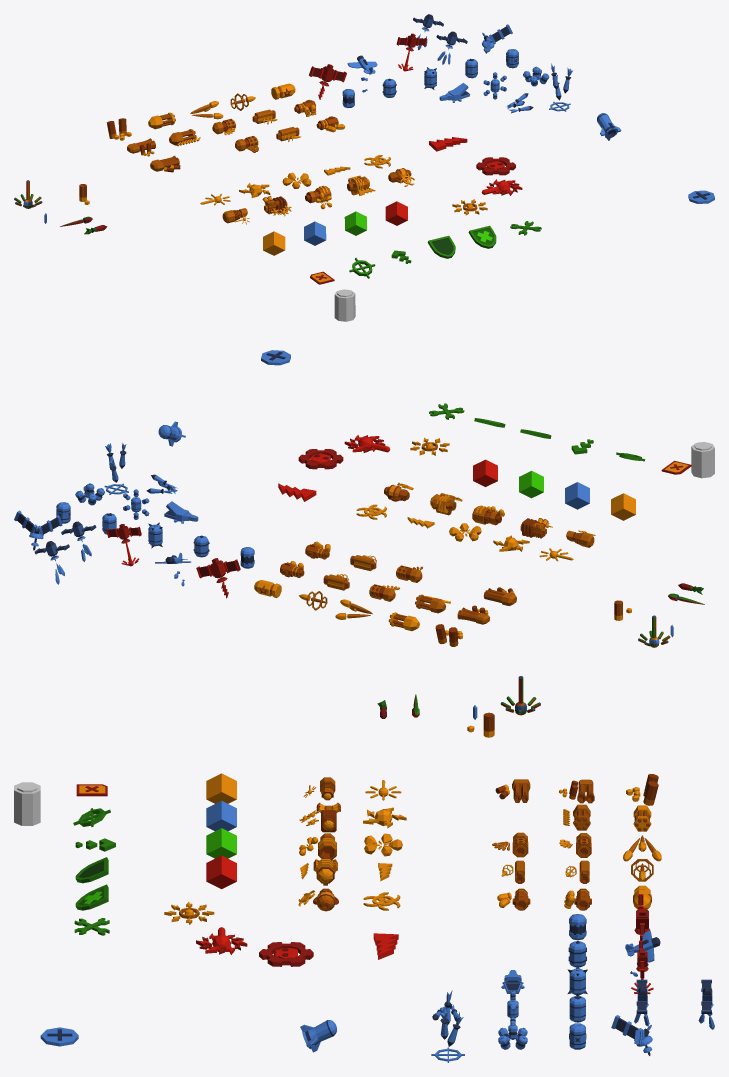
Rendered from powerup_icons.fbx.
The picture shows the model from 3 angles, top to bottom: view 1: azimuth 30°, elevation 25°; view 2: azimuth 150°, elevation 25°; view 3: azimuth 270°, elevation 25°; orthographic projection. The views are drawn at different scales.
Visible parts, largest first — view 1: platform, rb_hyperbeam_old, satellite_orbital_beam1; view 2: platform, rb_hyperbeam_old, satellite_orbital_beam1, satellite_old, rb_hyperbeam1, unknown3, unknown4, unknown2, unknown1, satellite_orbital_beam, targetMissile, ye_fragmenting (+2 smaller); view 3: platform, rb_hyperbeam_old, unknown4, targetMissile, unknown2, unknown3, unknown1, rb_hyperbeam1, SteeringMissile3, ye_plasma01, satellite_old, ye_fragmenting (+1 smaller).
Part boxes in pixels (box(x1,y1,x2,y2)): platform: box(334, 289, 355, 321); rb_hyperbeam_old: box(476, 157, 515, 175); satellite_orbital_beam1: box(309, 64, 346, 99); platform: box(691, 442, 714, 478); rb_hyperbeam_old: box(298, 449, 343, 469); satellite_orbital_beam1: box(196, 558, 240, 598); satellite_old: box(14, 510, 62, 550); rb_hyperbeam1: box(344, 435, 390, 452); unknown3: box(519, 470, 543, 498); unknown4: box(473, 459, 497, 486); unknown2: box(565, 482, 589, 509); unknown1: box(611, 493, 635, 520); satellite_orbital_beam: box(106, 524, 141, 566); targetMissile: box(104, 443, 128, 494); ye_fragmenting: box(472, 505, 504, 525); platform: box(14, 782, 40, 825); rb_hyperbeam_old: box(259, 942, 313, 966); unknown4: box(206, 855, 236, 889); targetMissile: box(431, 990, 464, 1062); unknown2: box(206, 800, 236, 831); unknown3: box(206, 828, 236, 858); unknown1: box(206, 773, 236, 803); rb_hyperbeam1: box(196, 927, 247, 954); SteeringMissile3: box(300, 1020, 336, 1052); ye_plasma01: box(299, 802, 340, 832); satellite_old: box(611, 1015, 652, 1055); ye_fragmenting: box(299, 833, 336, 860).
Size of the model in its own units: 2636 by 246 by 2166.
